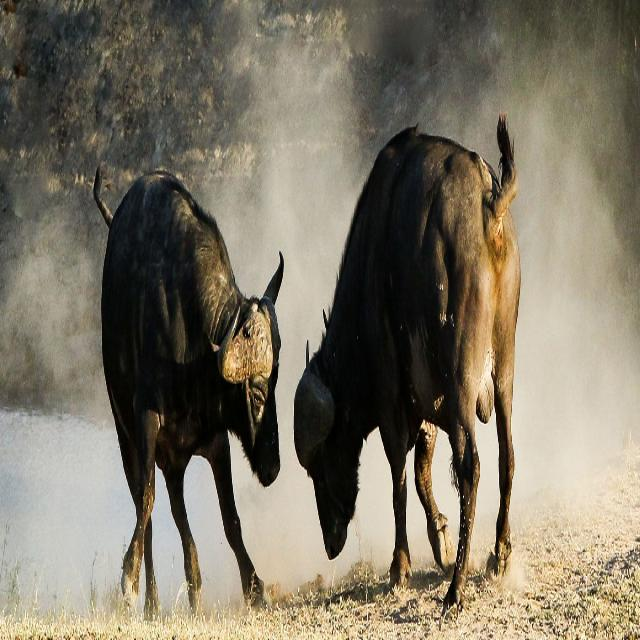buffalo: (291, 118, 529, 629), (95, 161, 288, 629)
